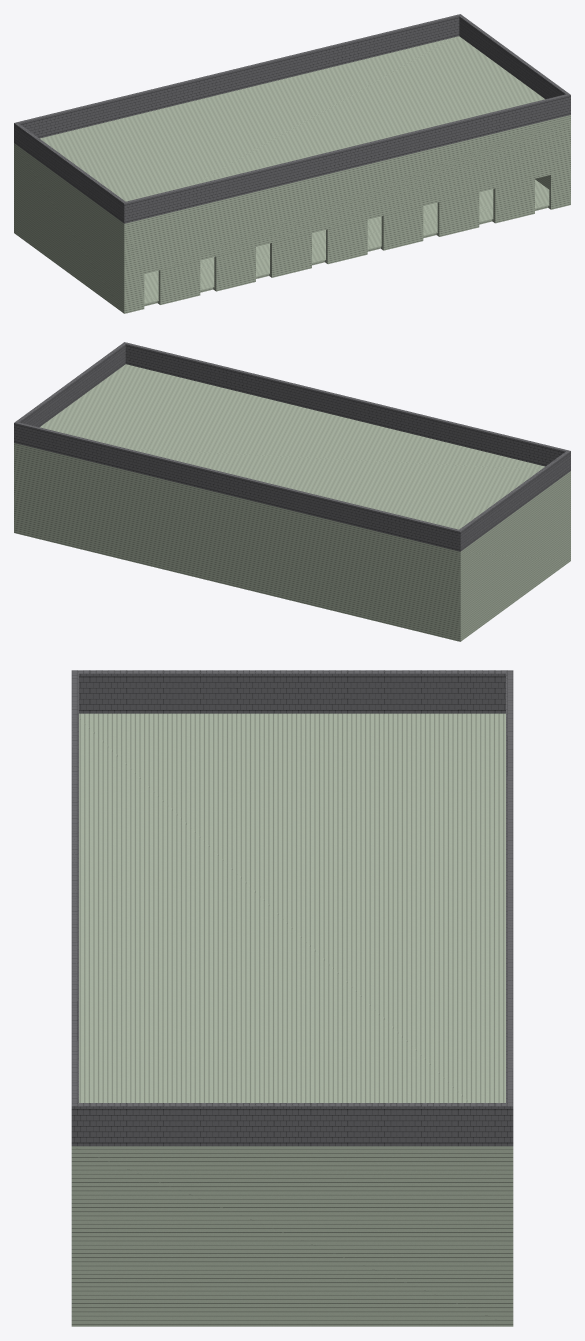
The model's file is apartment_garden_style.glb.
3 renders of one model, top to bottom at view 1: azimuth 30°, elevation 25°; view 2: azimuth 150°, elevation 25°; view 3: azimuth 270°, elevation 25°, orthographic. The views are drawn at different scales.
Visible parts, largest first — view 1: apartment_garden_style-col; view 2: apartment_garden_style-col; view 3: apartment_garden_style-col.
Boxes of the visible parts, x1,y1,x2,y2 form: apartment_garden_style-col: [14, 14, 570, 313]; apartment_garden_style-col: [14, 342, 570, 641]; apartment_garden_style-col: [71, 670, 513, 1326].
Size of the model in its own units: 28 by 6.6 by 12.
2 materials, 2 textured.
